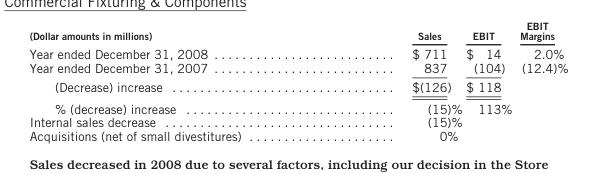table: (28, 29, 567, 143)
table column: (28, 29, 326, 143), (326, 29, 463, 143), (463, 29, 515, 143), (515, 29, 567, 143)
table column header: (28, 29, 567, 43)
table row: (28, 76, 567, 97), (28, 43, 567, 60), (28, 97, 567, 114), (28, 60, 567, 76), (28, 128, 567, 143), (28, 29, 567, 43), (28, 114, 567, 128)
